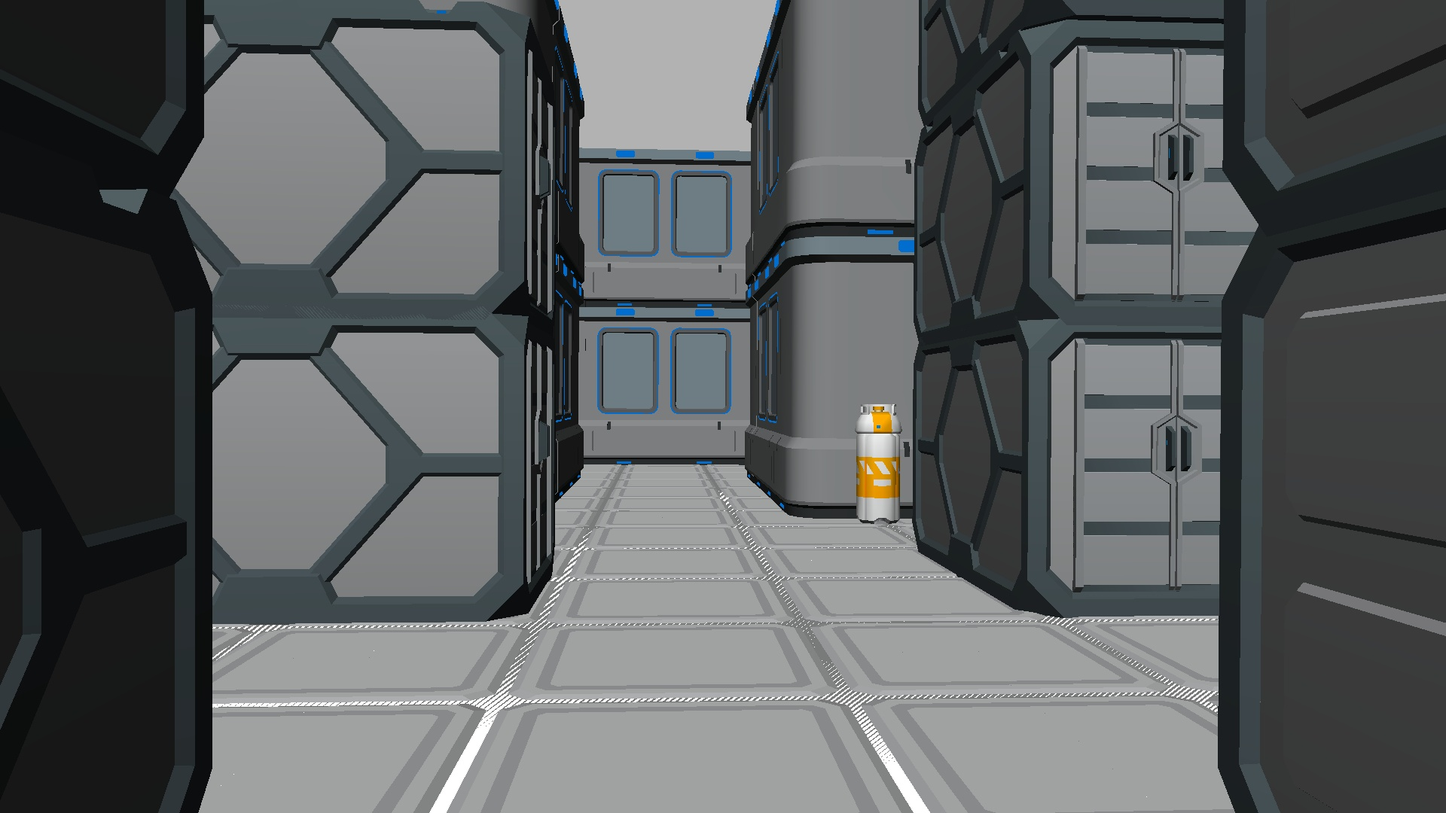yellow barrel: (855, 404, 903, 524)
